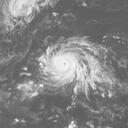cyclone: (37, 36, 117, 94)
